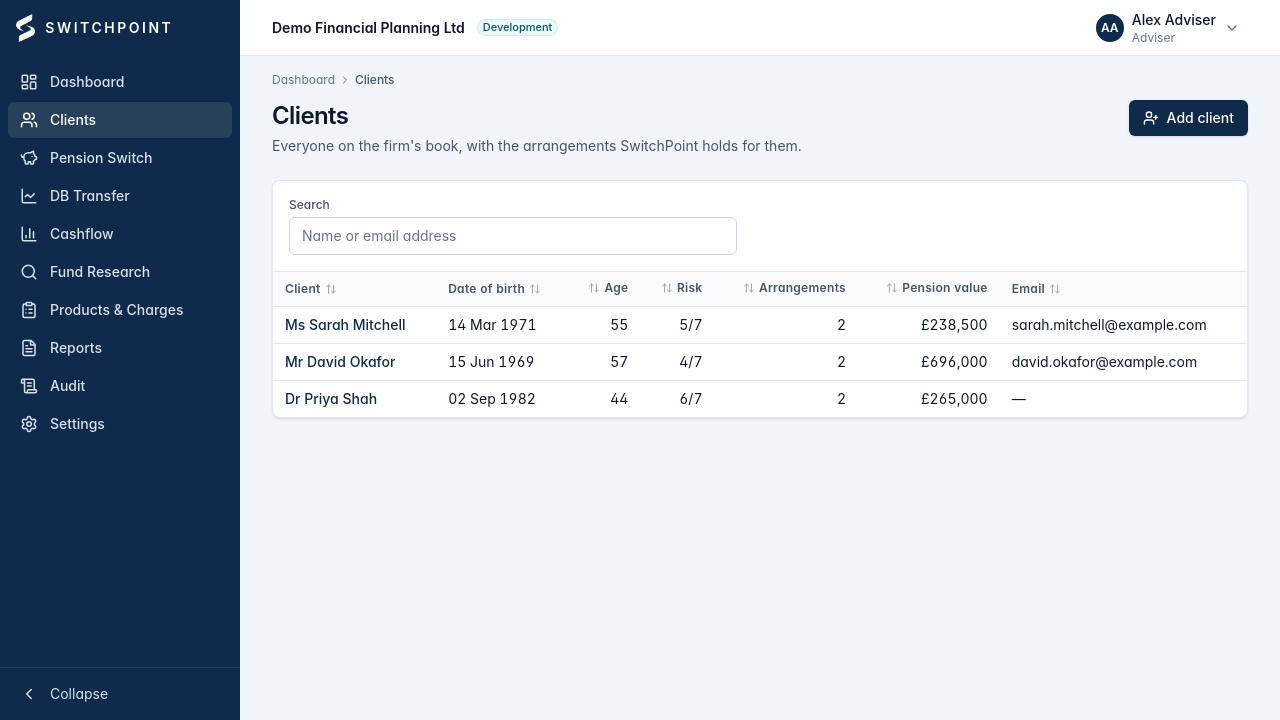
Test: clients › adds a client through the dialog
Click the button "Add client" at (1188, 118), box [1129,100,1248,136]
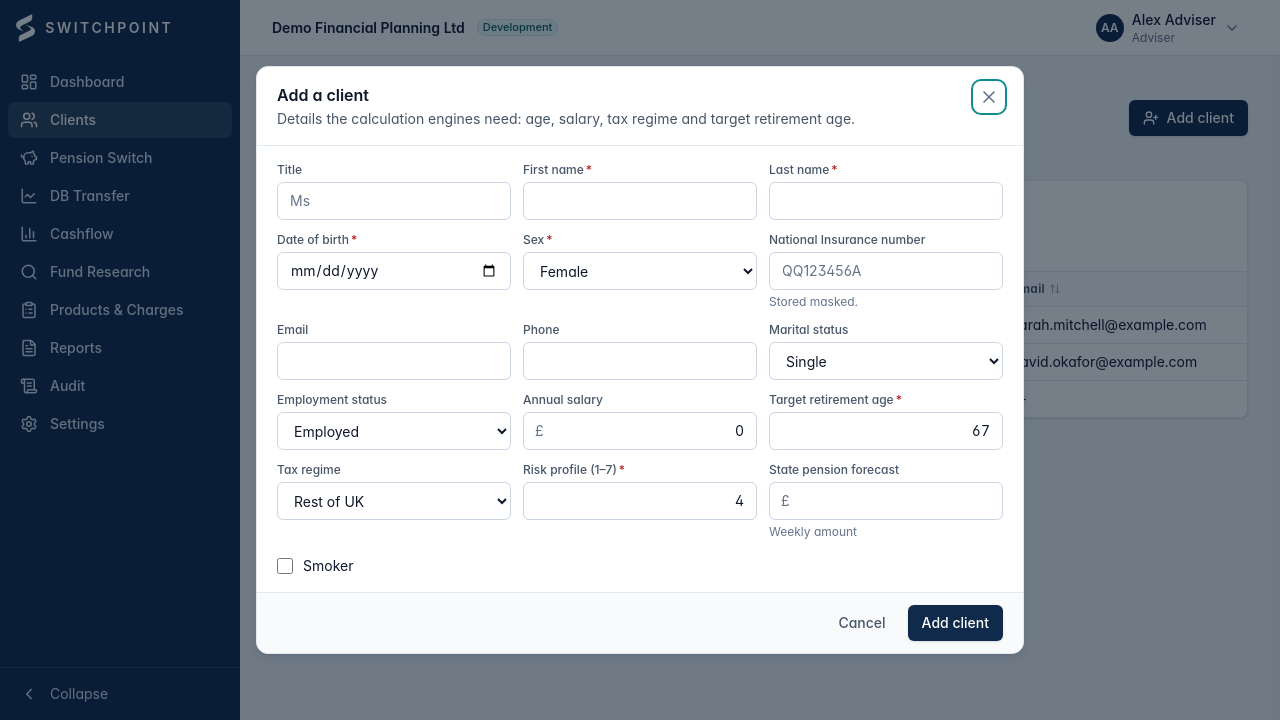
Type "Nia" into the field labelled "First name*" at (640, 201), box [523,182,757,220]
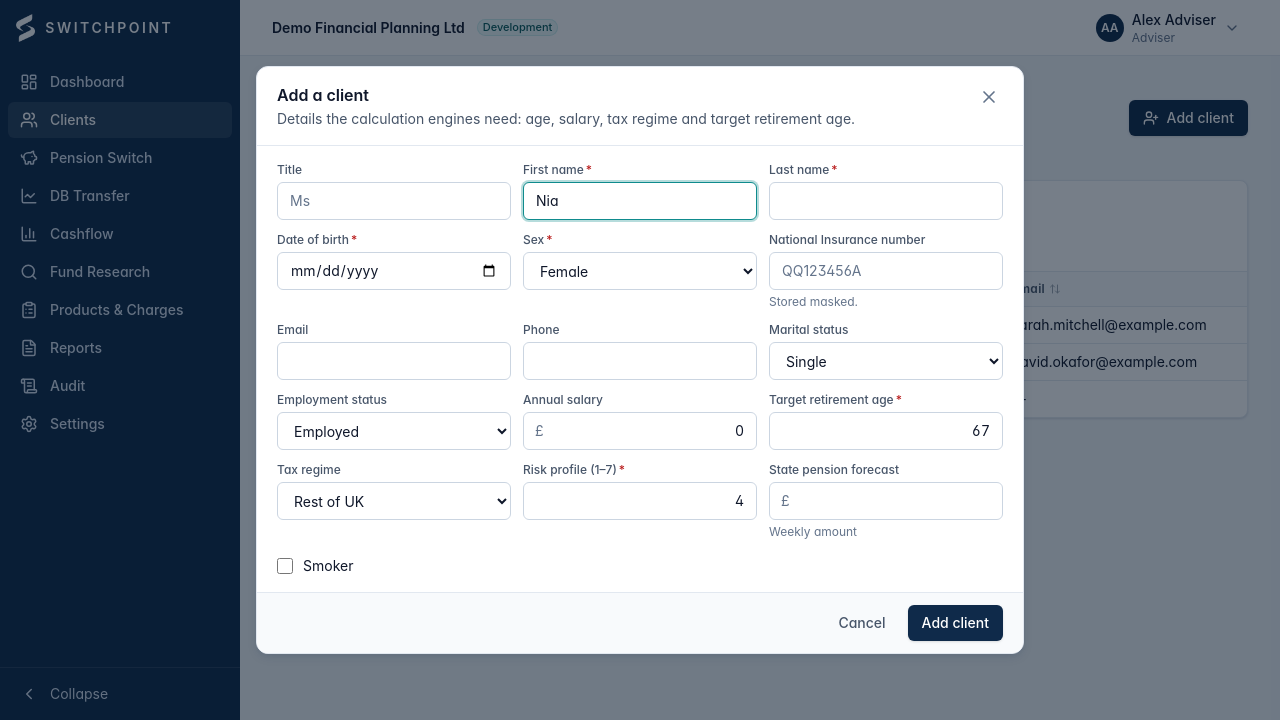
Type "Roberts" into the field labelled "Last name*" at (886, 201), box [769,182,1003,220]
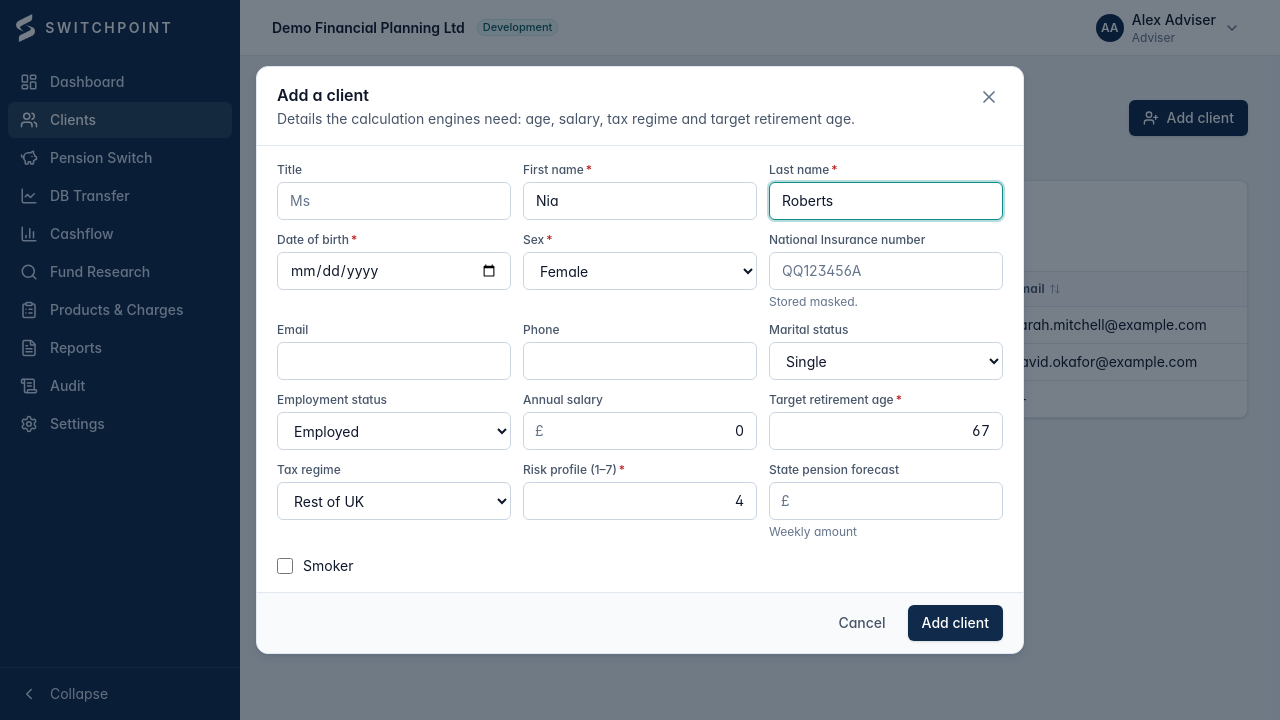
Type "1980-05-04" into the date field labelled "Date of birth*" at (394, 271), box [277,252,511,290]
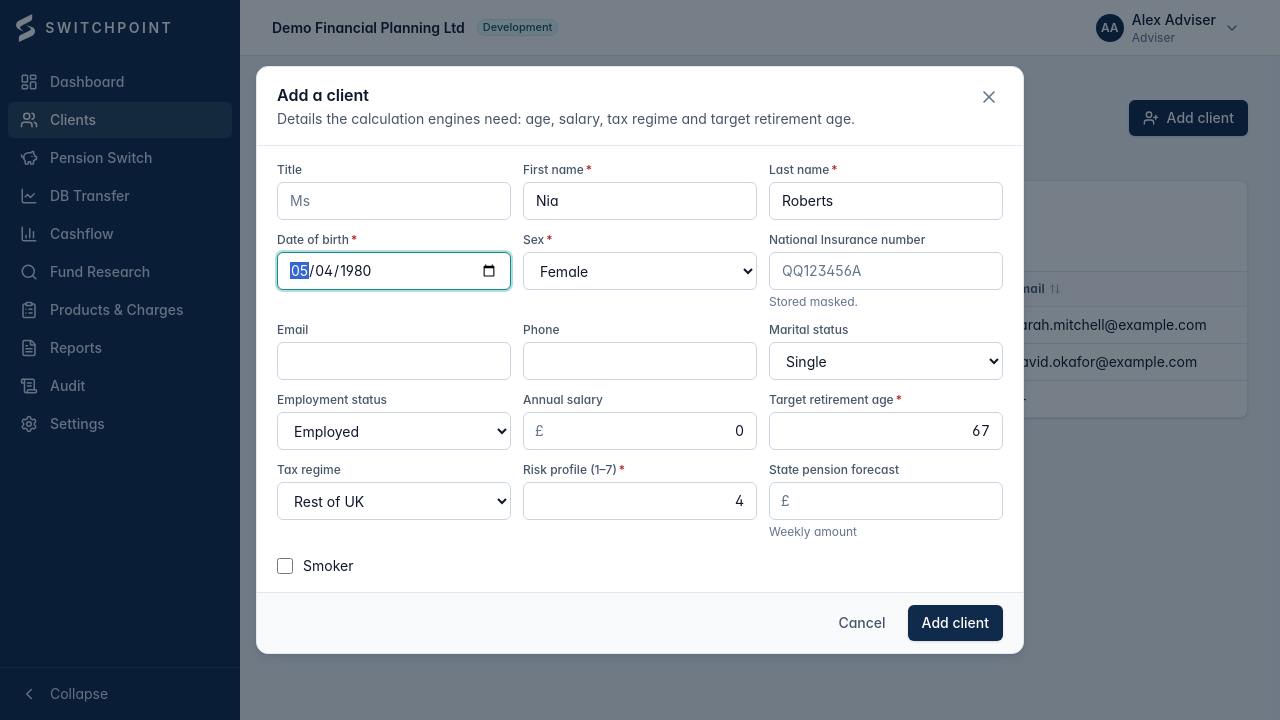
Click the button "Add client" at (955, 623), box [908,605,1003,641]
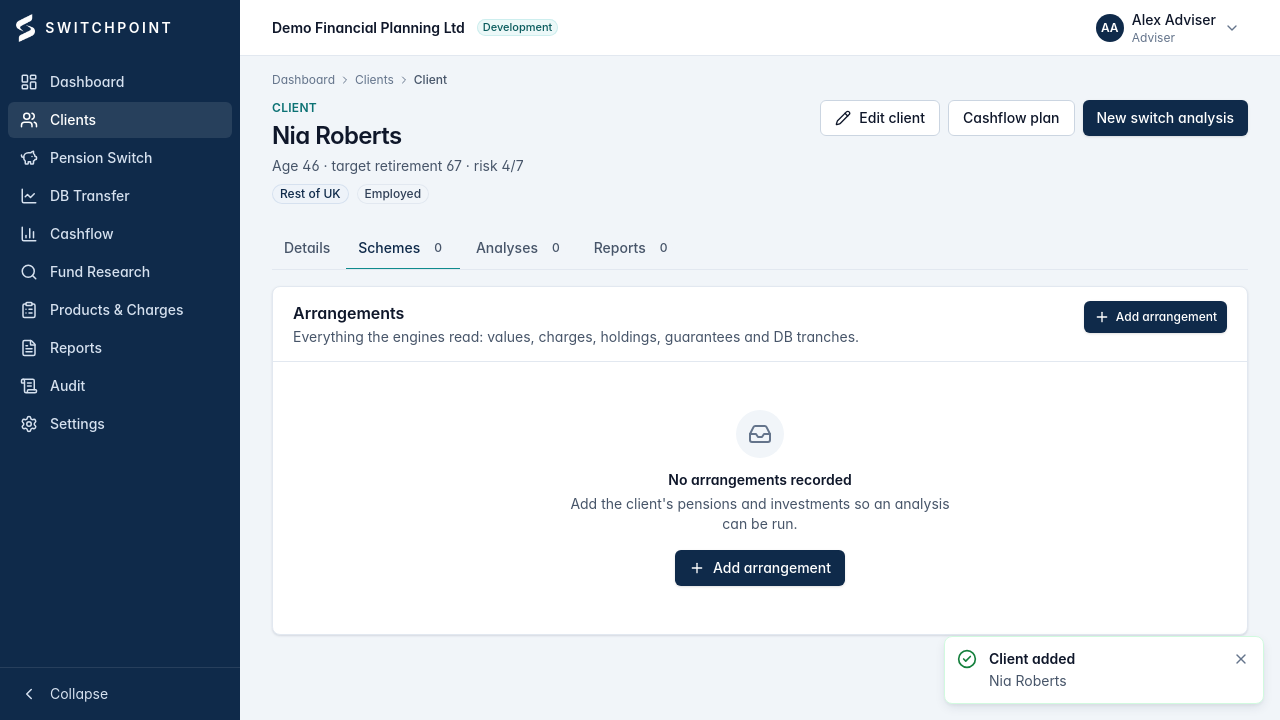
Expected: the text "Nia Roberts" is shown, [989,672,1067,689]
